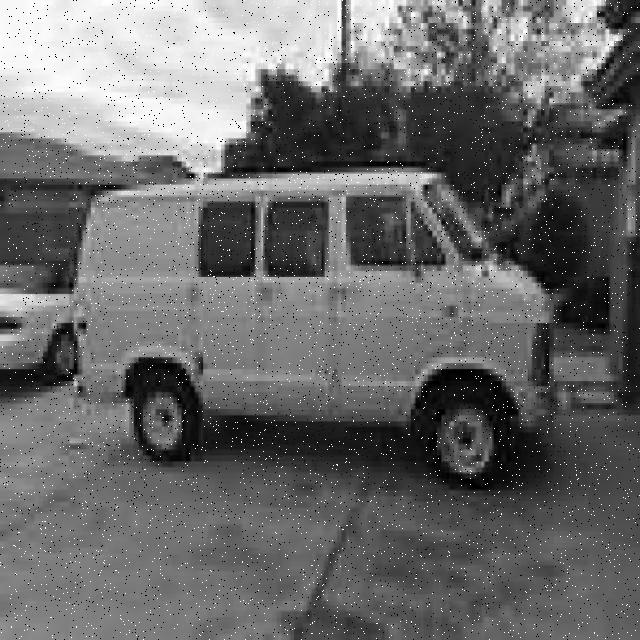Van: (71, 172, 554, 489)
